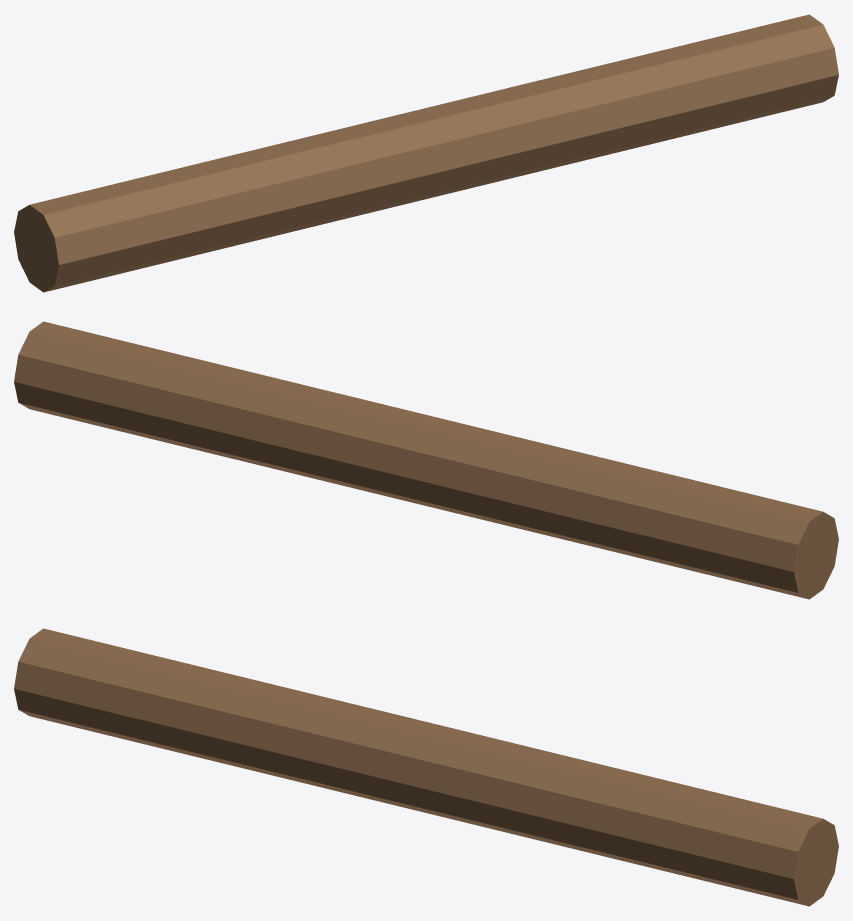
File: z4_tronco_1_lev1.glb
3 renders of one model, top to bottom at view 1: azimuth 30°, elevation 25°; view 2: azimuth 150°, elevation 25°; view 3: azimuth 330°, elevation 25°, orthographic.
Visible parts, largest first — view 1: z4_tronco_1_lev1; view 2: z4_tronco_1_lev1; view 3: z4_tronco_1_lev1.
Part boxes in pixels (left/top/right/bottom): z4_tronco_1_lev1: left=14, top=14, right=838, bottom=292; z4_tronco_1_lev1: left=14, top=321, right=838, bottom=599; z4_tronco_1_lev1: left=14, top=628, right=838, bottom=906.
Bounding box in the file's own units: 4.8 × 0.4565 × 0.48.
